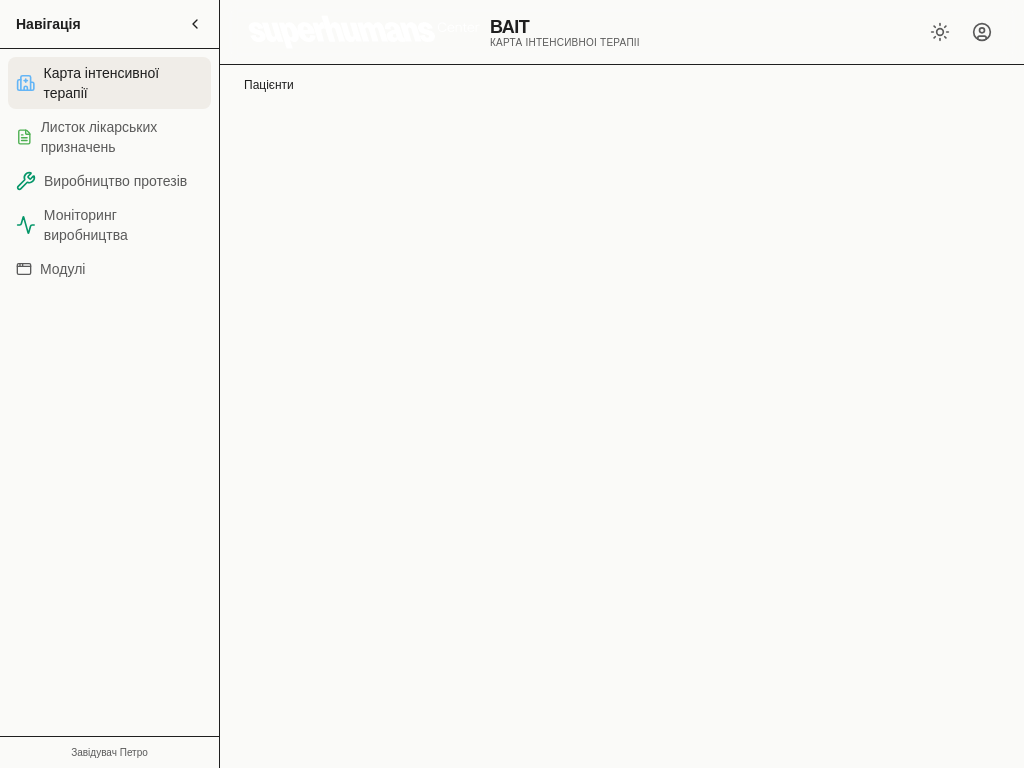
Test: GlobalLayout - HOD role › shows HOD role label in user menu
The image size is (1024, 768).
Click the button named "Меню користувача". click: (982, 32)
box: [964,14,1000,50]
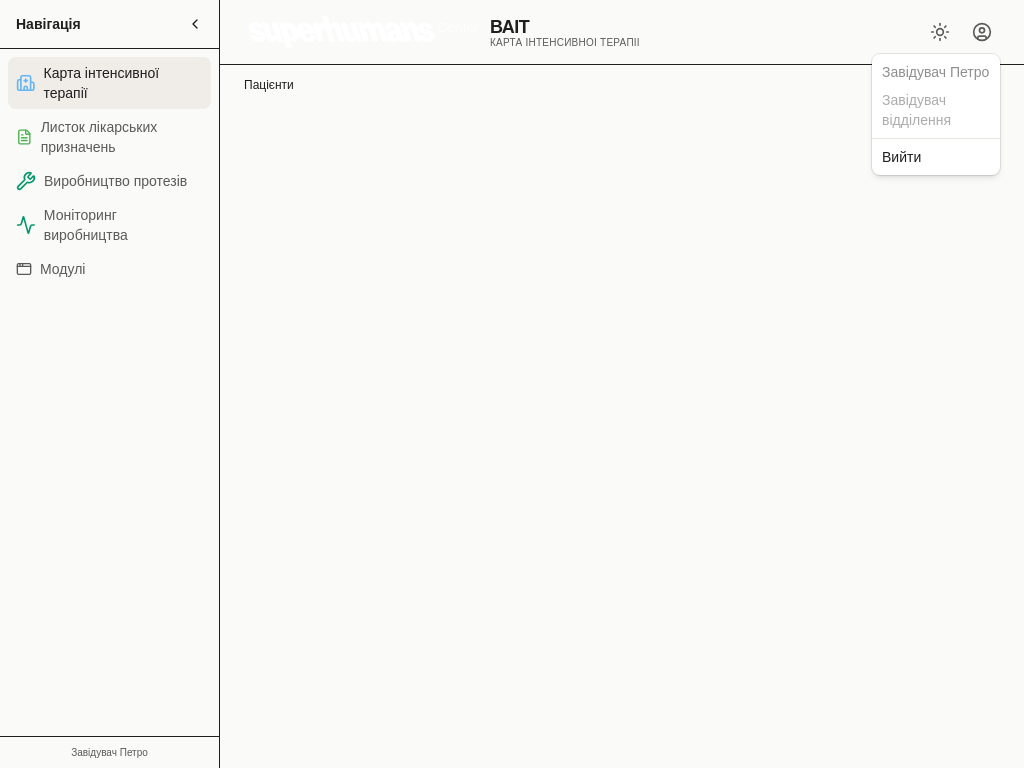
Result: the menu item "Завідувач відділення" is shown at [882,92,951,128]
